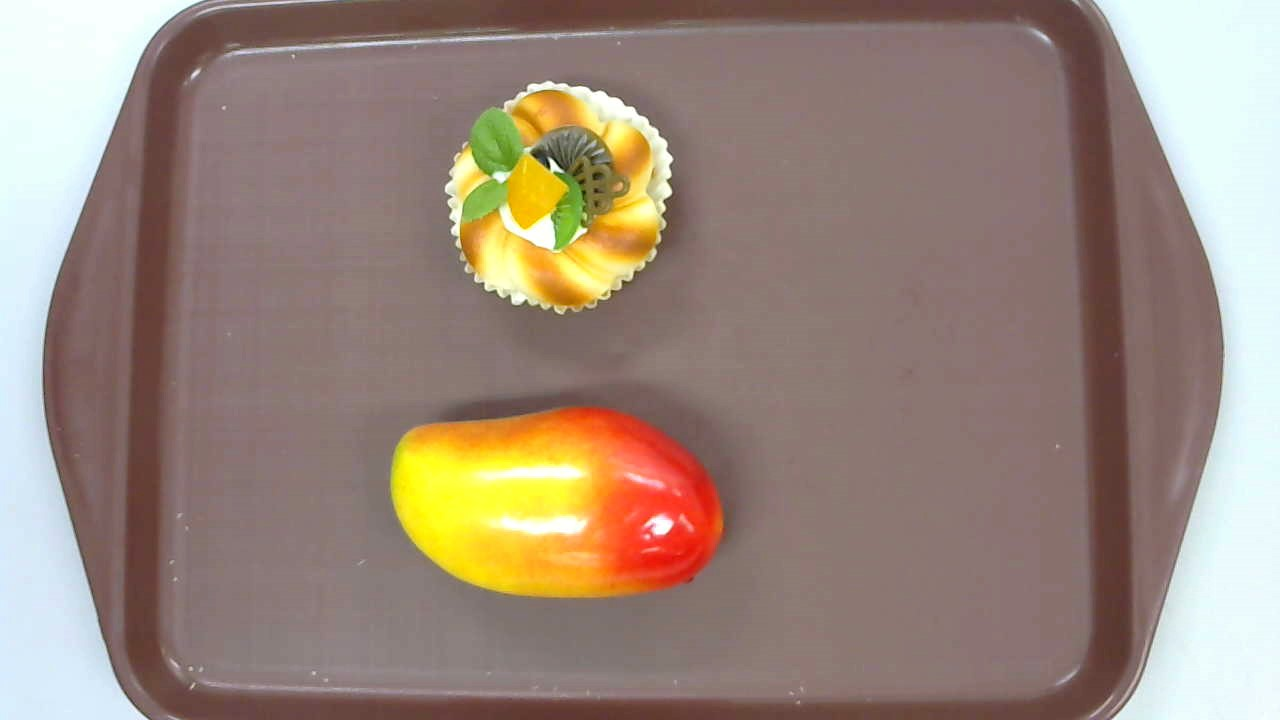fruit tart: (444, 79, 675, 316)
red mango: (389, 406, 725, 601)
